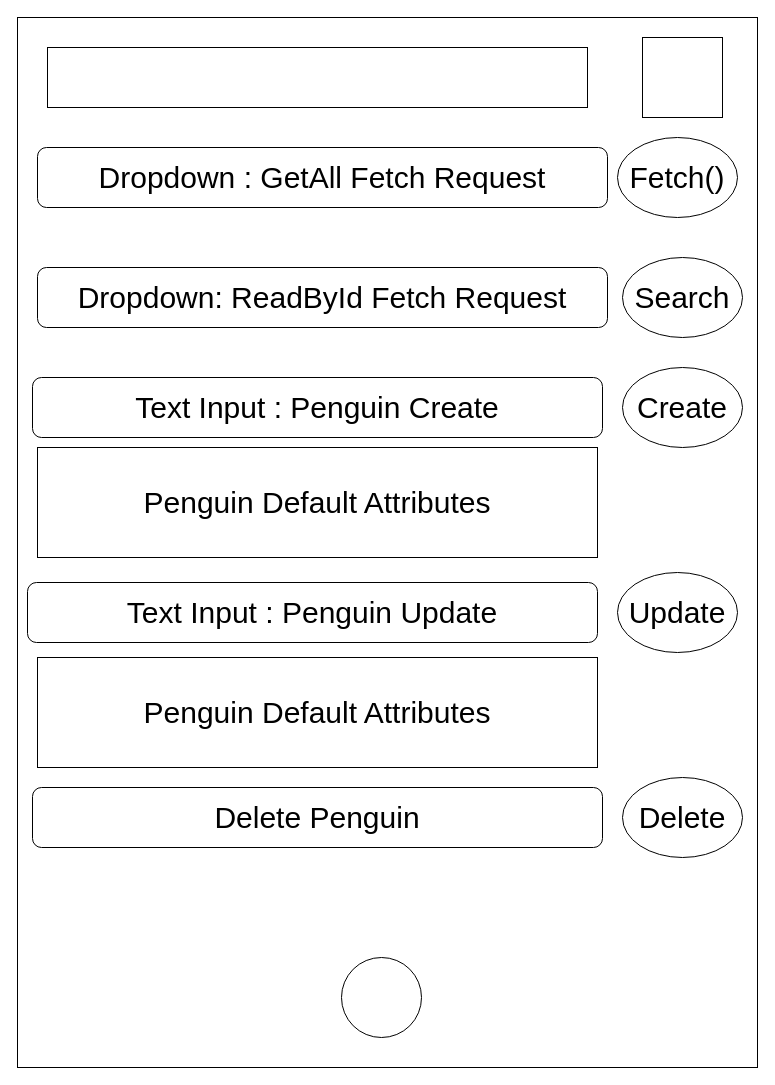
Image size: 775x1085. Some labels were removed from this diagram. Here are the shapes that lost their labels. From the top down, the centre of each, then its label:
point (317, 77): Title
point (682, 77): Logo
point (381, 997): Spin
